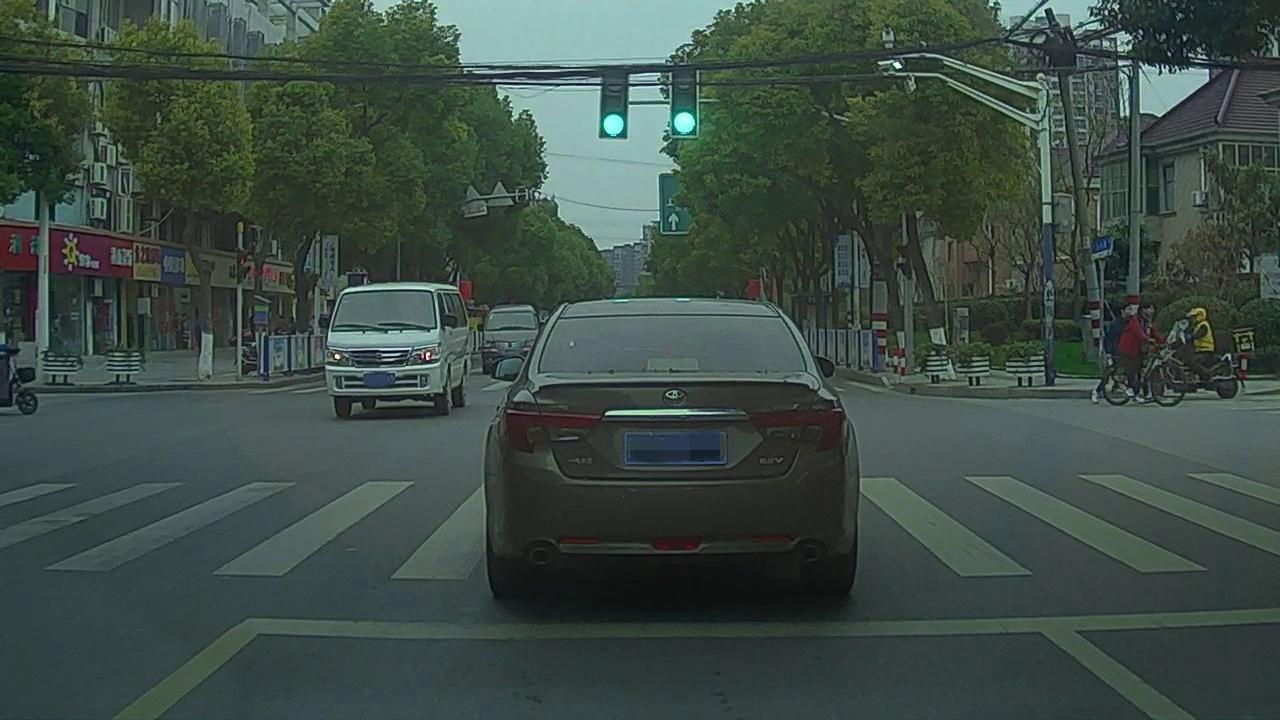traffic_light: (600, 71, 628, 138), (672, 69, 698, 138)
